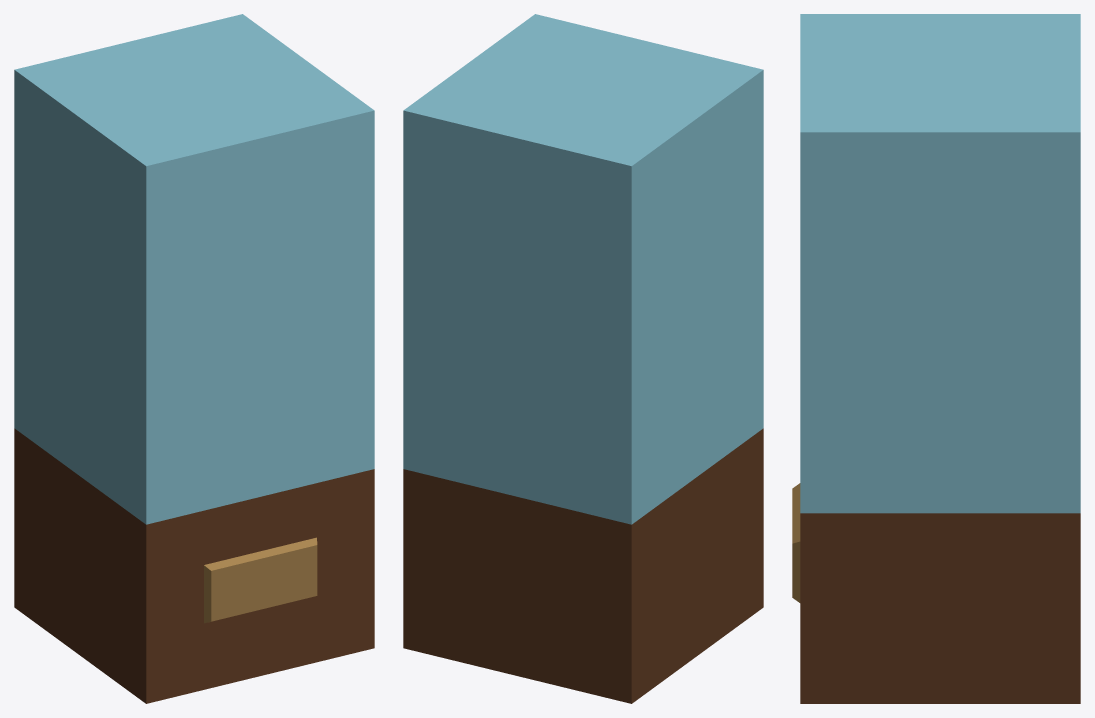
Rendered from DisplayCase.fbx.
3 renders of one model, left to right at view 1: azimuth 30°, elevation 25°; view 2: azimuth 150°, elevation 25°; view 3: azimuth 270°, elevation 25°, orthographic. The views are drawn at different scales.
Parts seen in each view (by area): view 1: DisplayCaseGlass, DisplayCaseBase, DisplayCasePlaque; view 2: DisplayCaseGlass, DisplayCaseBase; view 3: DisplayCaseGlass, DisplayCaseBase, DisplayCasePlaque.
Part boxes in pixels (x1=…): DisplayCaseGlass: x1=14, y1=14, x2=374, y2=524; DisplayCaseBase: x1=14, y1=428, x2=374, y2=703; DisplayCasePlaque: x1=204, y1=537, x2=317, y2=623; DisplayCaseGlass: x1=403, y1=14, x2=763, y2=524; DisplayCaseBase: x1=403, y1=428, x2=763, y2=703; DisplayCaseGlass: x1=800, y1=14, x2=1080, y2=513; DisplayCaseBase: x1=800, y1=513, x2=1080, y2=703; DisplayCasePlaque: x1=792, y1=483, x2=800, y2=602.
Bounding box in the file's own units: 100 × 225 × 103.
